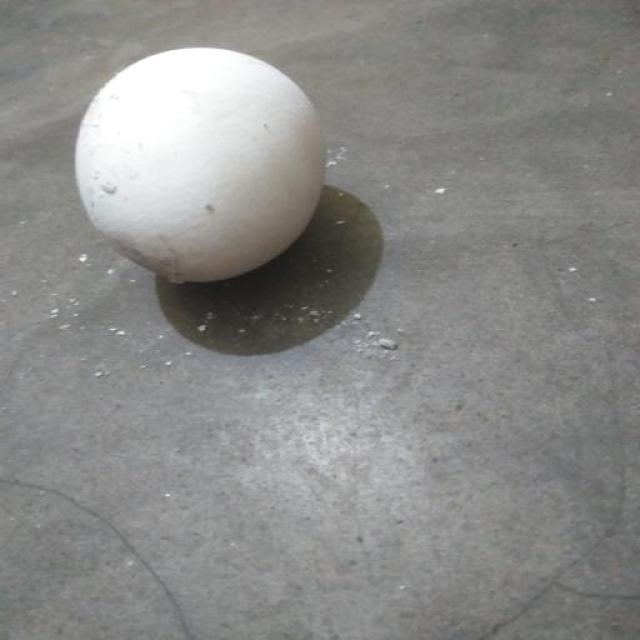telur: (78, 47, 324, 282)
